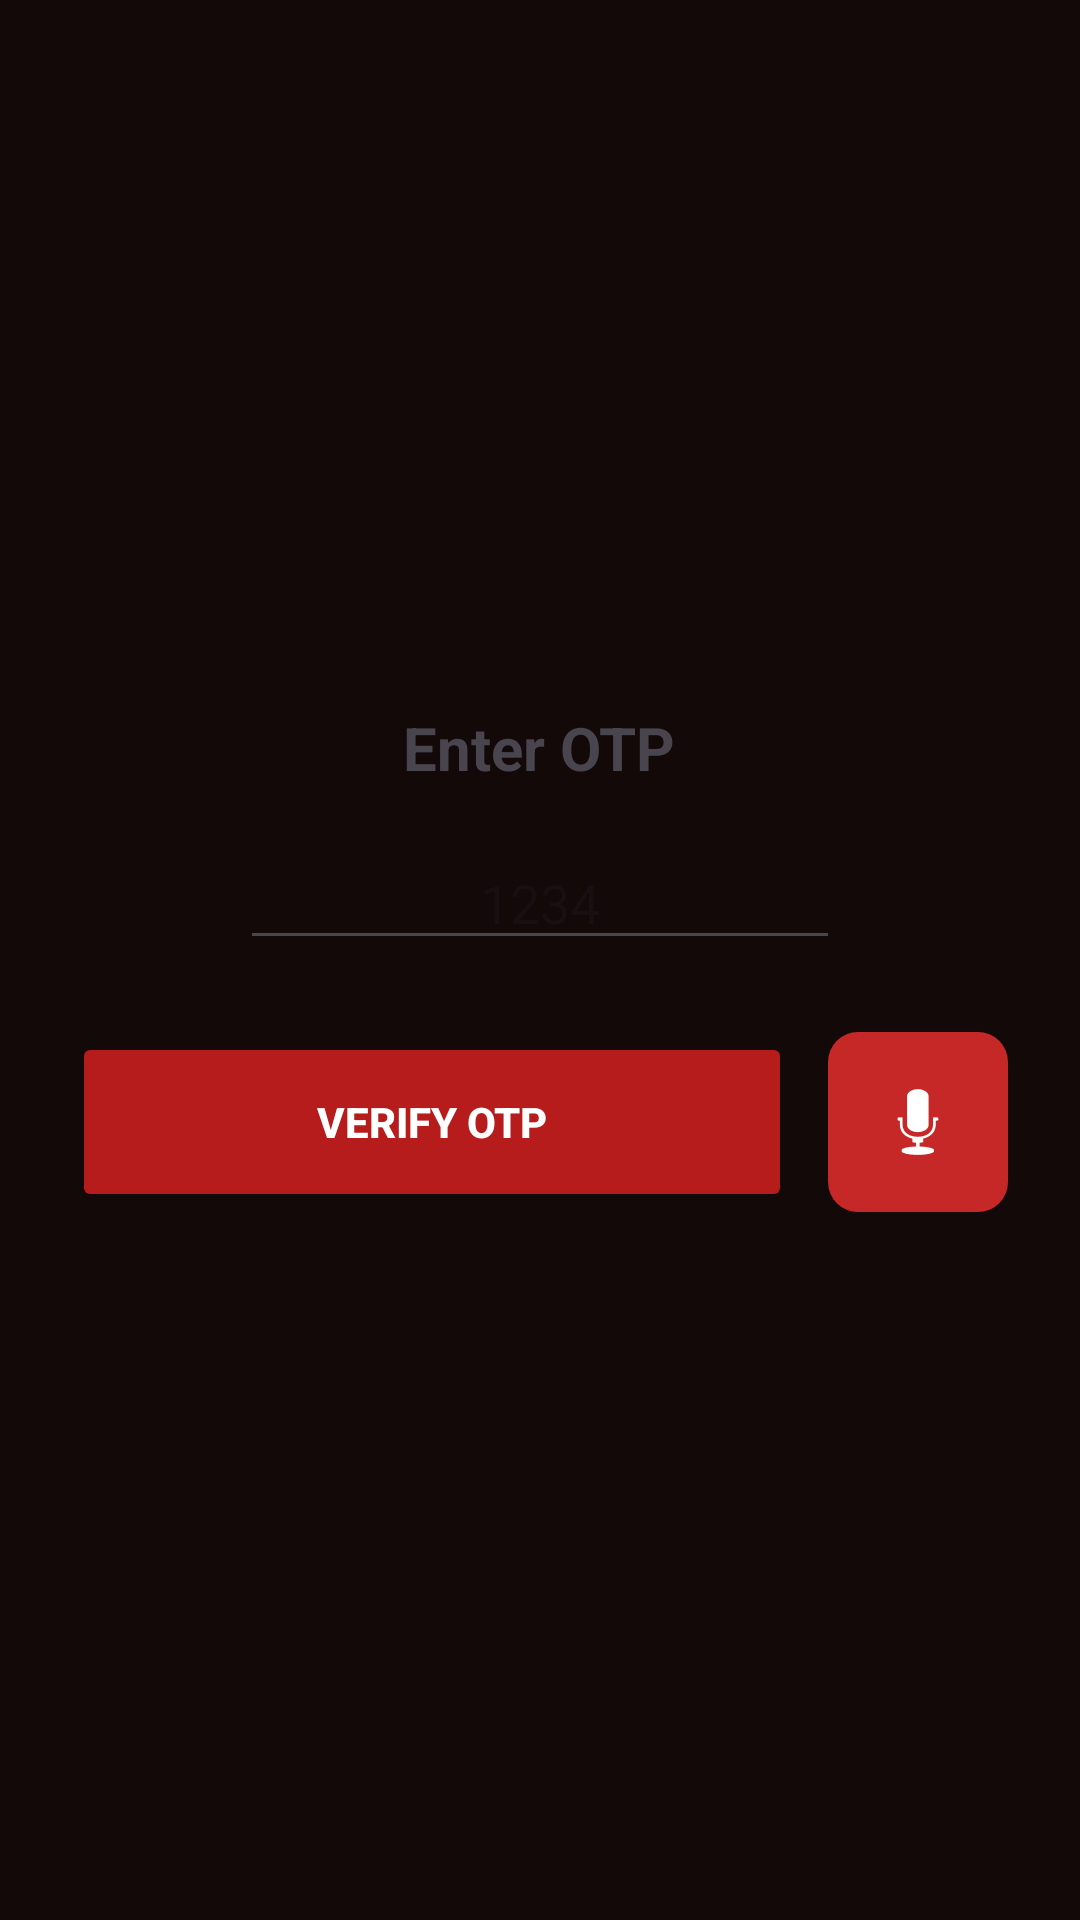

Icons on this 1080 × 1920 Android screen, each with the point to tap as (x=x, y=y):
Voice Command: (x=918, y=1122)
